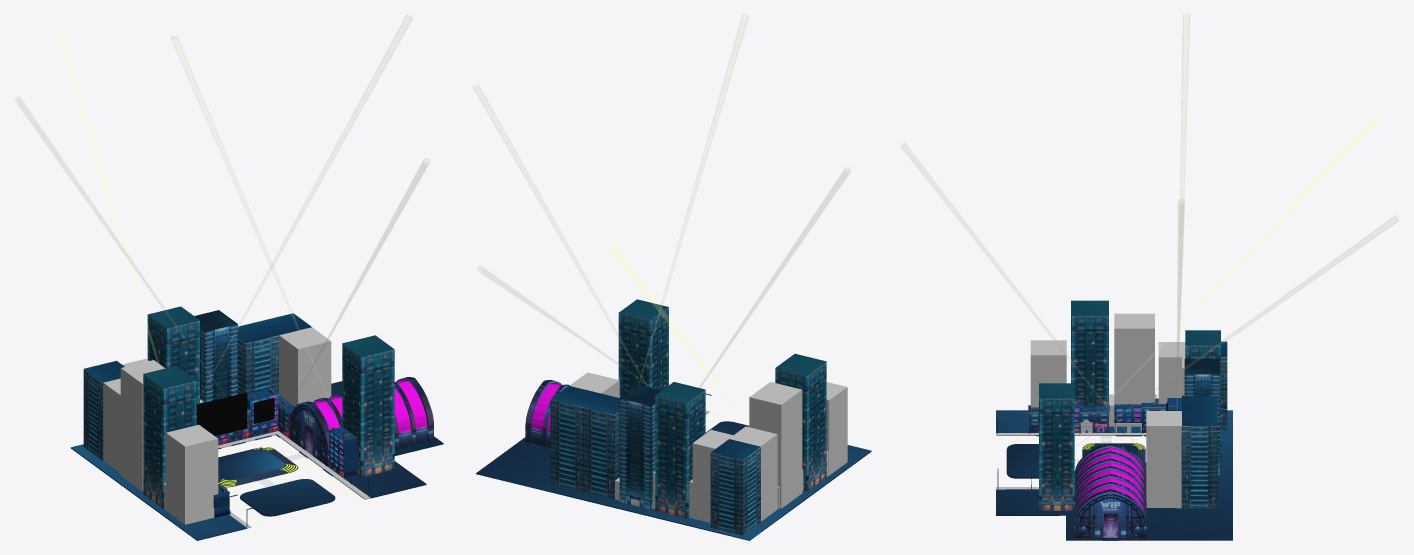
The model's file is Wip_Enviro.fbx.
3 views of the same model, side by side, from view 1: azimuth 30°, elevation 25°; view 2: azimuth 150°, elevation 25°; view 3: azimuth 270°, elevation 25° (orthographic). The views are drawn at different scales.
Visible parts, largest first — view 1: Cube.091, Building, Cube.211, Cube.075, Cube.190, Cube.009, Cube.007, Cube.210, Cube.006, Cube.078, Cube.005, Cube.001 (+11 smaller); view 2: Cube.007, Cube.075, Cube.001, Cube.091, Cube.009, Cube.210, Building, Cube.006, Cube.089, Cube.112, Cube.212, Cube.211 (+7 smaller); view 3: Cube.075, Cube.091, Building, Cube.210, Cube.089, Cube.190, WIP Gallery.007, Cube.211, Plane.014, Cube.009, Cube.212, SkyBeam Light bowl and light.004 (+7 smaller).
Boxes of the visible parts, x1=… form: Cube.091: x1=342, y1=335, x2=394, y2=477; Building: x1=143, y1=366, x2=196, y2=508; Cube.211: x1=166, y1=424, x2=218, y2=524; Cube.075: x1=70, y1=381, x2=443, y2=540; Cube.190: x1=279, y1=327, x2=331, y2=406; Cube.009: x1=194, y1=310, x2=237, y2=402; Cube.007: x1=147, y1=306, x2=199, y2=404; Cube.210: x1=120, y1=360, x2=164, y2=491; Cube.006: x1=238, y1=321, x2=278, y2=394; Cube.078: x1=240, y1=479, x2=335, y2=516; Cube.005: x1=218, y1=447, x2=298, y2=487; Cube.001: x1=83, y1=360, x2=124, y2=460; Cube.007: x1=655, y1=382, x2=705, y2=518; Cube.075: x1=476, y1=437, x2=871, y2=540; Cube.001: x1=710, y1=439, x2=760, y2=535; Cube.091: x1=618, y1=299, x2=668, y2=397; Cube.009: x1=619, y1=385, x2=661, y2=509; Cube.210: x1=749, y1=382, x2=802, y2=508; Building: x1=775, y1=353, x2=826, y2=491; Cube.006: x1=583, y1=393, x2=619, y2=499; Cube.089: x1=550, y1=386, x2=600, y2=491; Cube.112: x1=692, y1=430, x2=732, y2=522; Cube.212: x1=727, y1=426, x2=777, y2=521; Cube.211: x1=826, y1=382, x2=847, y2=475; Cube.075: x1=996, y1=410, x2=1232, y2=540; Cube.091: x1=1039, y1=383, x2=1074, y2=510; Building: x1=1071, y1=300, x2=1108, y2=407; Cube.210: x1=1114, y1=313, x2=1154, y2=404; Cube.089: x1=1181, y1=411, x2=1217, y2=508; Cube.190: x1=1146, y1=411, x2=1181, y2=508; WIP Gallery.007: x1=1075, y1=491, x2=1146, y2=537; Cube.211: x1=1030, y1=340, x2=1066, y2=407; Plane.014: x1=1077, y1=447, x2=1144, y2=510; Cube.009: x1=1184, y1=359, x2=1220, y2=474; Cube.212: x1=1158, y1=342, x2=1185, y2=403; SkyBeam Light bowl and light.004: x1=1177, y1=14, x2=1189, y2=402.
Size of the model in its own units: 2596 by 2437 by 3037.
